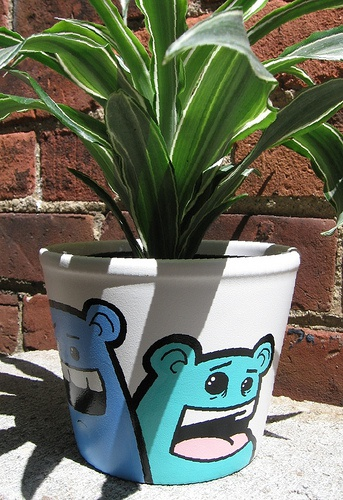flowerpot: (39, 237, 303, 487)
